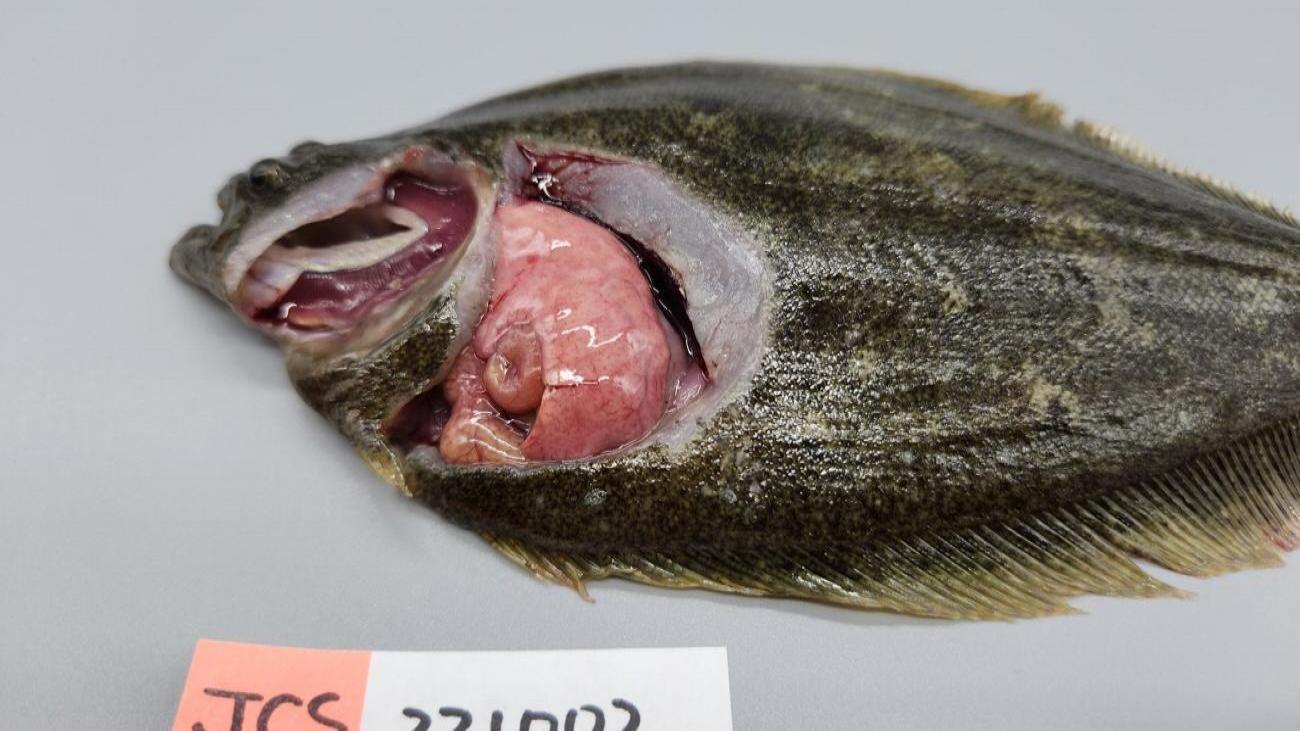POLIN: (469, 191, 672, 462)
